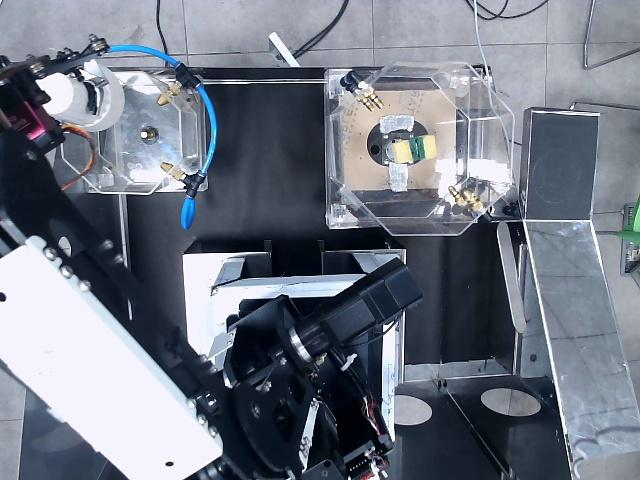cup: (36, 60, 124, 131)
